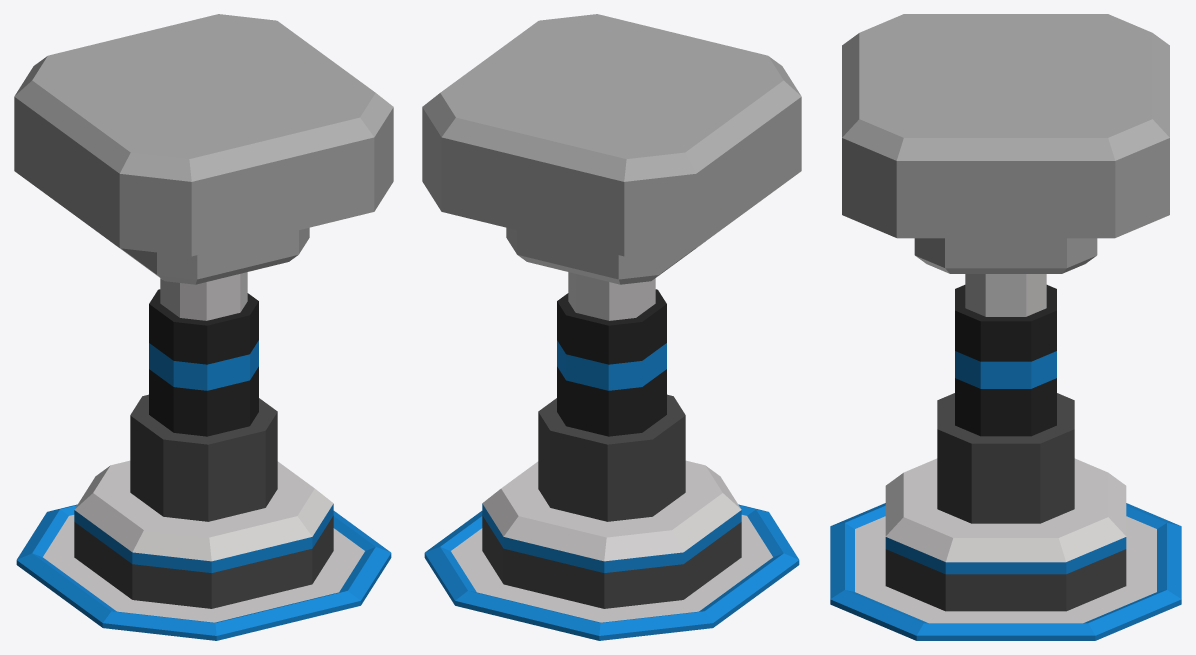
File: MainBuild.fbx
3 renders of one model, left to right at view 1: azimuth 30°, elevation 25°; view 2: azimuth 150°, elevation 25°; view 3: azimuth 270°, elevation 25°, orthographic. The views are drawn at different scales.
Parts seen in each view (by area): view 1: Duo, Core2, Core1, Base; view 2: Duo, Core2, Core1, Base; view 3: Duo, Core2, Core1, Base.
Part boxes in pixels (x1,y1,x2,y2): Duo: (14,14,393,284); Core2: (130,272,277,521); Core1: (74,460,333,608); Base: (16,504,391,640); Duo: (422,14,801,284); Core2: (538,272,685,521); Core1: (482,460,741,608); Base: (424,504,799,640); Duo: (842,14,1169,273); Core2: (937,274,1074,523); Core1: (885,458,1126,611); Base: (830,503,1181,640).
Size of the model in its own units: 13.06 by 21.88 by 13.29.
